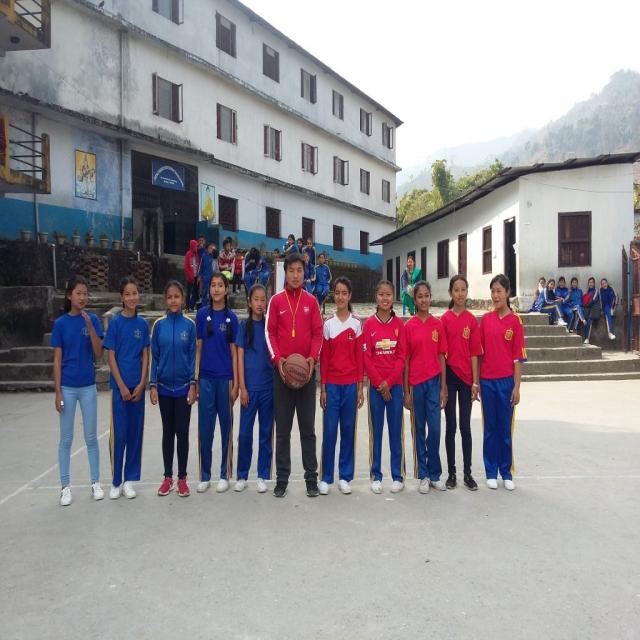body: (263, 249, 326, 499), (48, 272, 104, 506), (474, 270, 528, 492), (101, 272, 151, 501), (147, 276, 197, 497), (399, 278, 448, 494), (361, 277, 409, 496), (192, 270, 238, 495), (318, 274, 364, 498), (439, 274, 482, 492), (233, 283, 275, 494), (536, 276, 568, 326), (182, 239, 202, 313), (400, 255, 422, 317), (598, 276, 619, 340), (582, 276, 600, 345), (196, 244, 215, 308), (568, 276, 588, 333), (554, 276, 574, 330), (314, 252, 332, 312), (243, 246, 261, 299), (218, 238, 236, 286), (243, 247, 261, 294), (282, 232, 297, 288), (230, 248, 246, 296), (302, 251, 316, 295), (271, 248, 283, 298), (534, 276, 548, 312), (301, 237, 317, 268), (219, 235, 237, 262), (196, 234, 208, 266), (210, 247, 222, 275), (296, 237, 305, 256), (210, 240, 218, 252), (240, 250, 248, 258)
